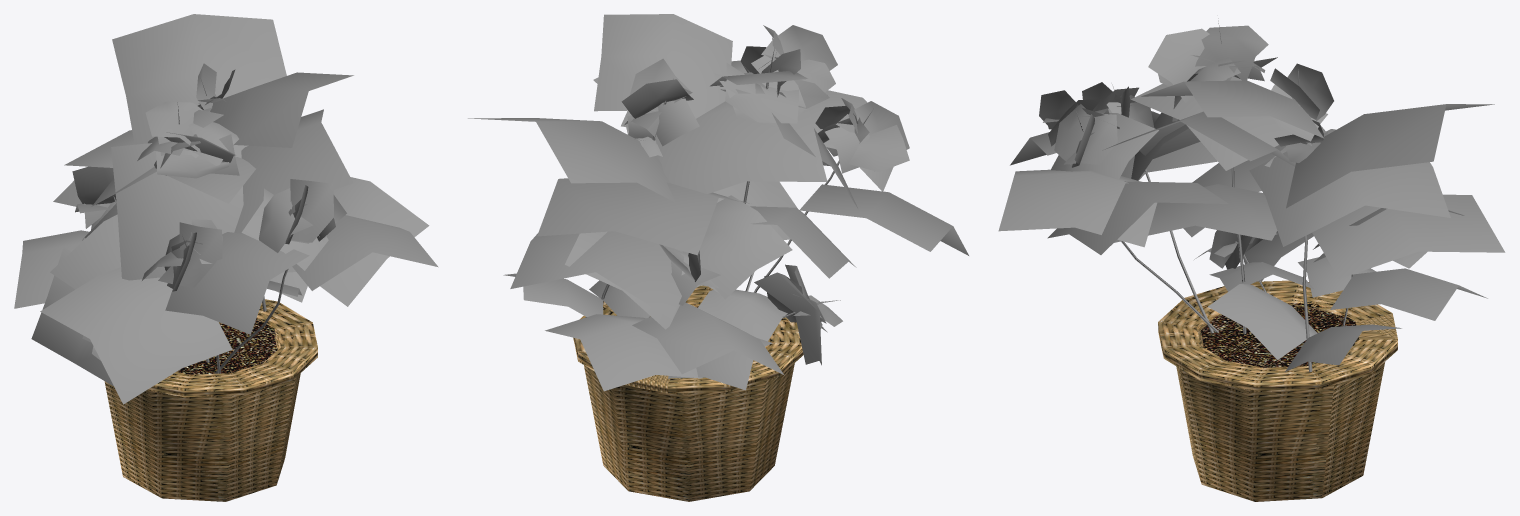
File: Fern_flower_lod1.fbx
The picture shows the model from 3 angles, left to right: view 1: azimuth 30°, elevation 25°; view 2: azimuth 150°, elevation 25°; view 3: azimuth 270°, elevation 25°; orthographic projection. The views are drawn at different scales.
Parts seen in each view (by area): view 1: Fern_flower_lod1; view 2: Fern_flower_lod1; view 3: Fern_flower_lod1.
Part boxes in pixels (<box>): Fern_flower_lod1: <box>14,14,438,501</box>; Fern_flower_lod1: <box>468,14,968,501</box>; Fern_flower_lod1: <box>998,18,1505,501</box>.
Bounding box in the file's own units: 23.29 × 25.79 × 27.5.
Materials: 3 (1 with a texture image).
